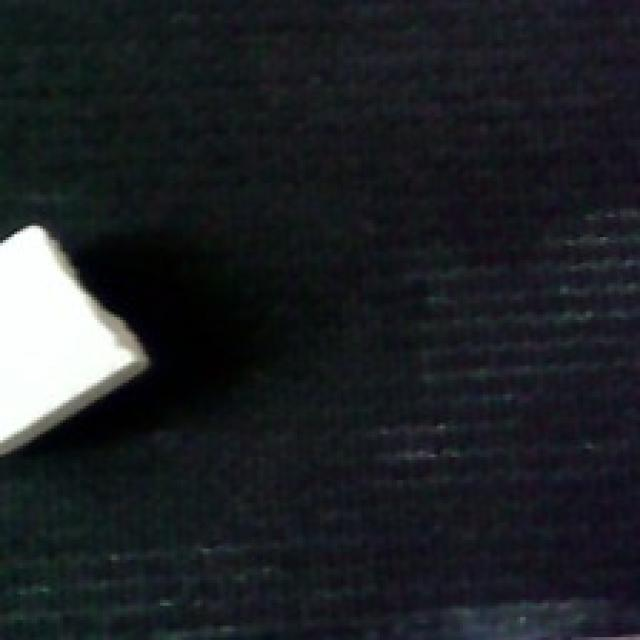defected: (0, 226, 157, 448)
